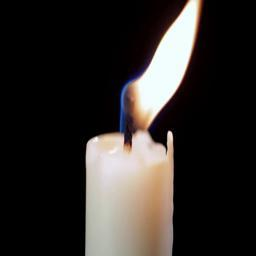fire: (122, 0, 200, 136)
